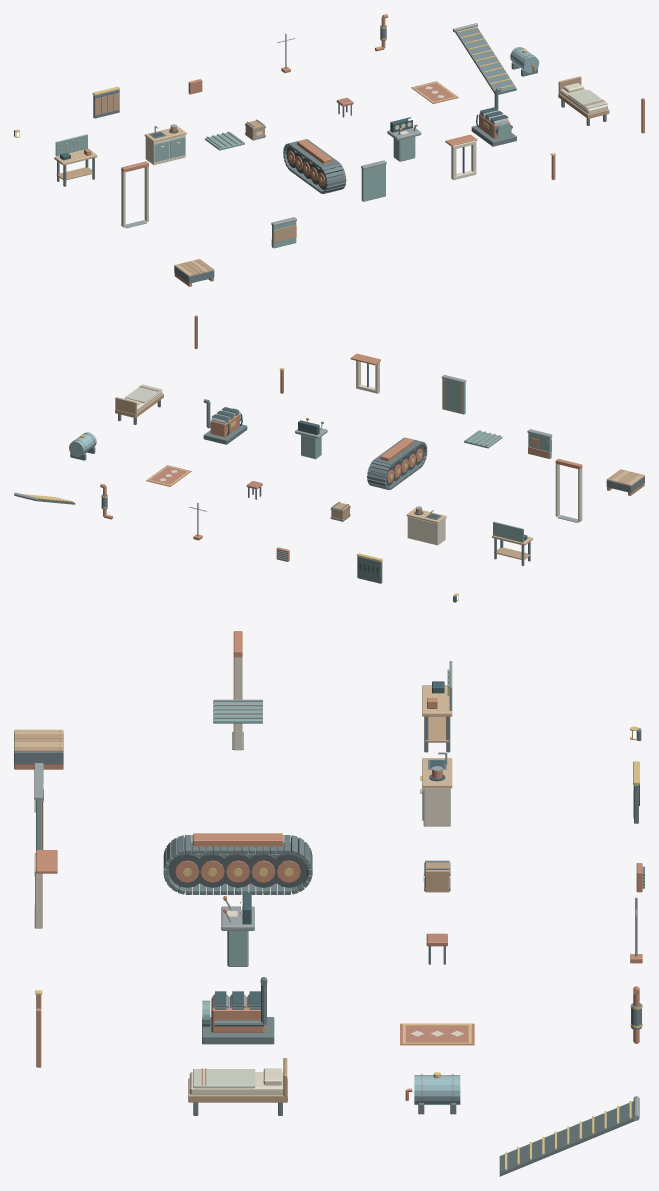
File: modular_kit_catalog.glb
3 renders of one model, top to bottom at view 1: azimuth 30°, elevation 25°; view 2: azimuth 150°, elevation 25°; view 3: azimuth 270°, elevation 25°, orthographic. The views are drawn at different scales.
Parts seen in each view (by area): view 1: track_bogie_3m, ramp, workbench, bed, kitchen, engine, helm, wall_upper_1m, window_upper_1m, doorway_1m, floor_1m, interior_partition_1m (+4 smaller); view 2: track_bogie_3m, engine, kitchen, bed, workbench, wall_upper_1m, helm, doorway_1m, floor_1m, interior_partition_1m, window_upper_1m, wall_low_1m (+3 smaller); view 3: track_bogie_3m, engine, bed, ramp, kitchen, floor_1m, workbench, helm, rug, tank, roof_1m, window_upper_1m (+2 smaller).
Part boxes in pixels (left/top/right/bottom): track_bogie_3m: left=283, top=139, right=346, bottom=193; ramp: left=453, top=23, right=516, bottom=94; workbench: left=54, top=134, right=97, bottom=186; bed: left=558, top=76, right=609, bottom=125; kitchen: left=144, top=124, right=186, bottom=164; engine: left=471, top=88, right=516, bottom=146; helm: left=387, top=117, right=421, bottom=161; wall_upper_1m: left=361, top=160, right=386, bottom=201; window_upper_1m: left=445, top=134, right=477, bottom=180; doorway_1m: left=121, top=161, right=148, bottom=228; floor_1m: left=174, top=259, right=214, bottom=286; interior_partition_1m: left=92, top=86, right=119, bottom=118; track_bogie_3m: left=367, top=437, right=427, bottom=489; engine: left=203, top=399, right=247, bottom=444; kitchen: left=406, top=506, right=446, bottom=545; bed: left=115, top=384, right=163, bottom=424; workbench: left=492, top=521, right=532, bottom=565; wall_upper_1m: left=441, top=375, right=466, bottom=414; helm: left=295, top=418, right=327, bottom=459; doorway_1m: left=555, top=458, right=582, bottom=522; floor_1m: left=606, top=469, right=644, bottom=495; interior_partition_1m: left=356, top=553, right=382, bottom=583; window_upper_1m: left=350, top=353, right=380, bottom=393; wall_low_1m: left=527, top=429, right=552, bottom=458; track_bogie_3m: left=163, top=833, right=312, bottom=894; engine: left=202, top=977, right=274, bottom=1044; bed: left=188, top=1058, right=287, bottom=1115; ramp: left=499, top=1096, right=639, bottom=1176; kitchen: left=420, top=752, right=452, bottom=826; floor_1m: left=14, top=729, right=63, bottom=769; workbench: left=422, top=661, right=452, bottom=752; helm: left=221, top=892, right=254, bottom=966; rug: left=400, top=1023, right=474, bottom=1045; tank: left=405, top=1072, right=460, bottom=1114; roof_1m: left=213, top=699, right=262, bottom=723; window_upper_1m: left=34, top=850, right=57, bottom=928.
Bounding box in the file's own units: 18.64 × 3.66 × 12.67.
